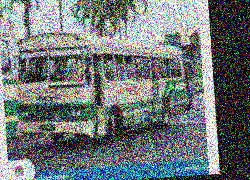bus: (12, 24, 190, 149)
